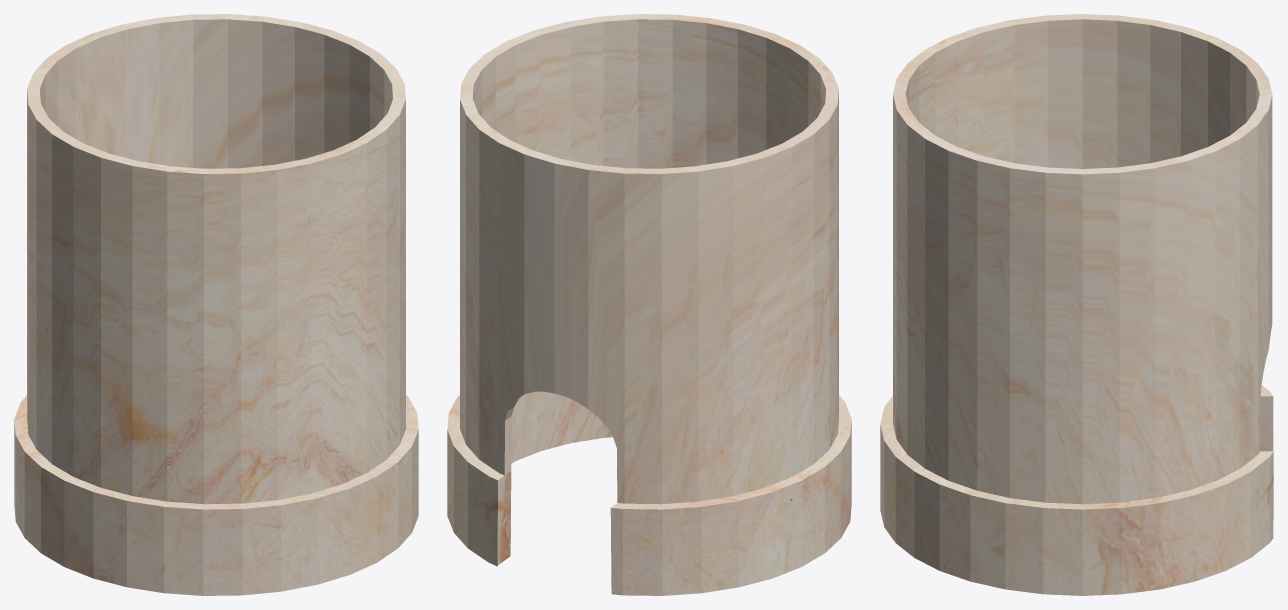
Rendered from фасад1.fbx.
3 renders of one model, left to right at view 1: azimuth 30°, elevation 25°; view 2: azimuth 150°, elevation 25°; view 3: azimuth 270°, elevation 25°, orthographic.
Visible parts, largest first — view 1: Фасад.001; view 2: Фасад.001; view 3: Фасад.001.
Boxes of the visible parts, x1,y1,x2,y2 form: Фасад.001: (14,14,418,595); Фасад.001: (447,14,851,595); Фасад.001: (880,14,1273,595).
Bounding box in the file's own units: 8000 × 9076 × 7773.
1 material, 1 textured.
